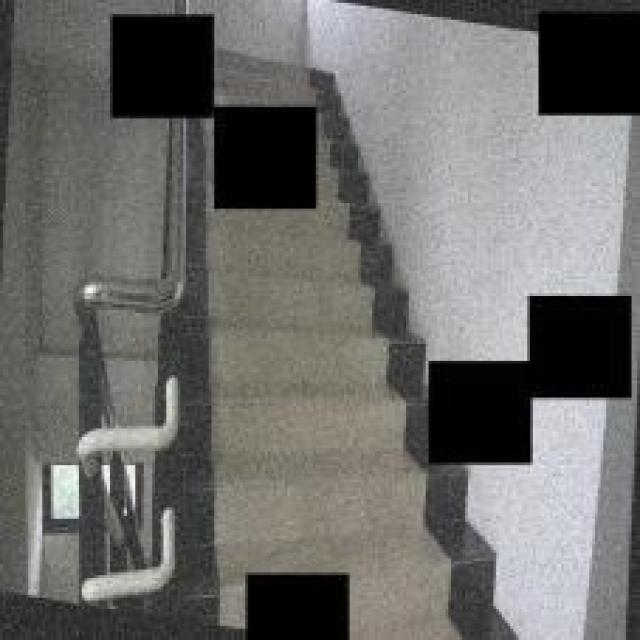upstair: (198, 252, 413, 475)
